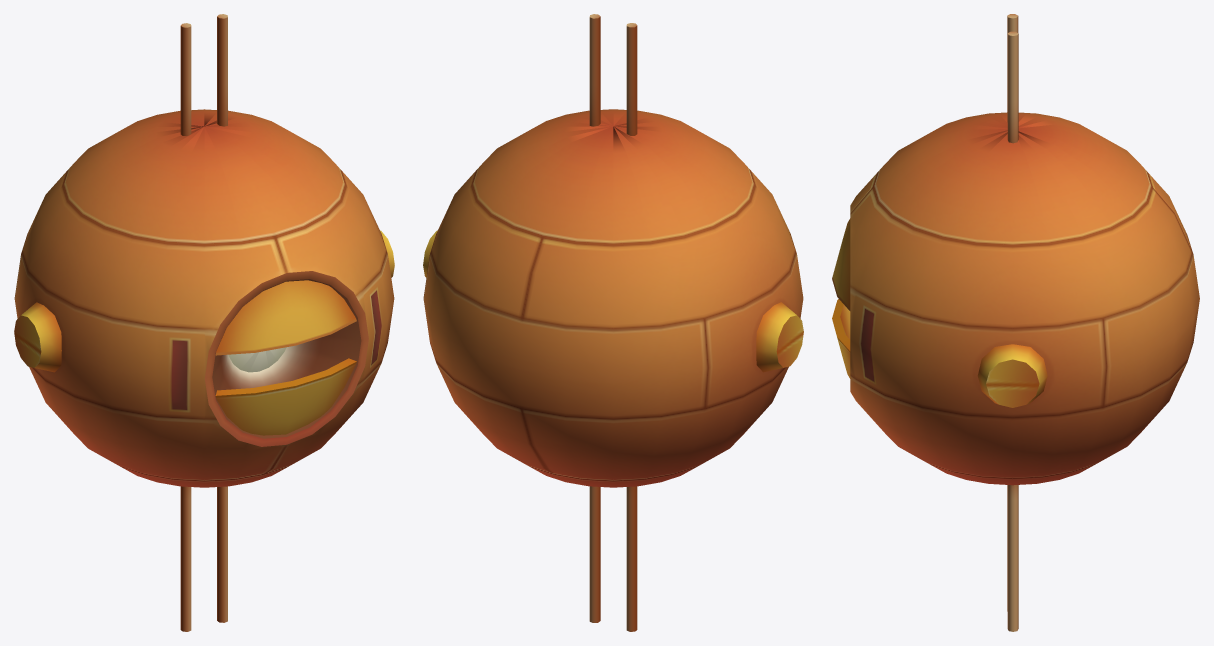
File: zhonglishi_jiqiren.FBX
3 renders of one model, left to right at view 1: azimuth 30°, elevation 25°; view 2: azimuth 150°, elevation 25°; view 3: azimuth 270°, elevation 25°, orthographic.
Parts seen in each view (by area): view 1: zhonglishi_jiqiren; view 2: zhonglishi_jiqiren; view 3: zhonglishi_jiqiren.
Part boxes in pixels (bbox=[...]): zhonglishi_jiqiren: bbox=[14, 14, 394, 631]; zhonglishi_jiqiren: bbox=[423, 14, 803, 631]; zhonglishi_jiqiren: bbox=[832, 14, 1199, 631].
Bounding box in the file's own units: 91.44 × 149 × 83.58.
